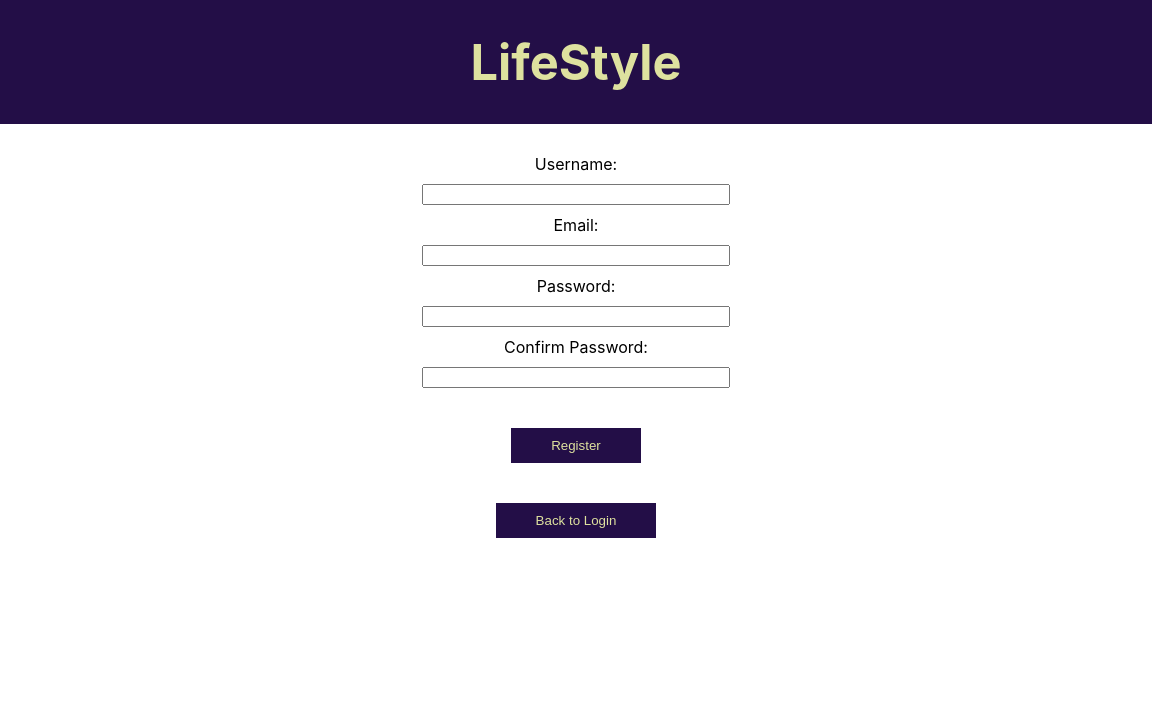
Test: user registration fails with invalid inputs
The image size is (1152, 720).
Type "testuser" into the field labelled "Username:" at (576, 195), box [422, 184, 730, 205]
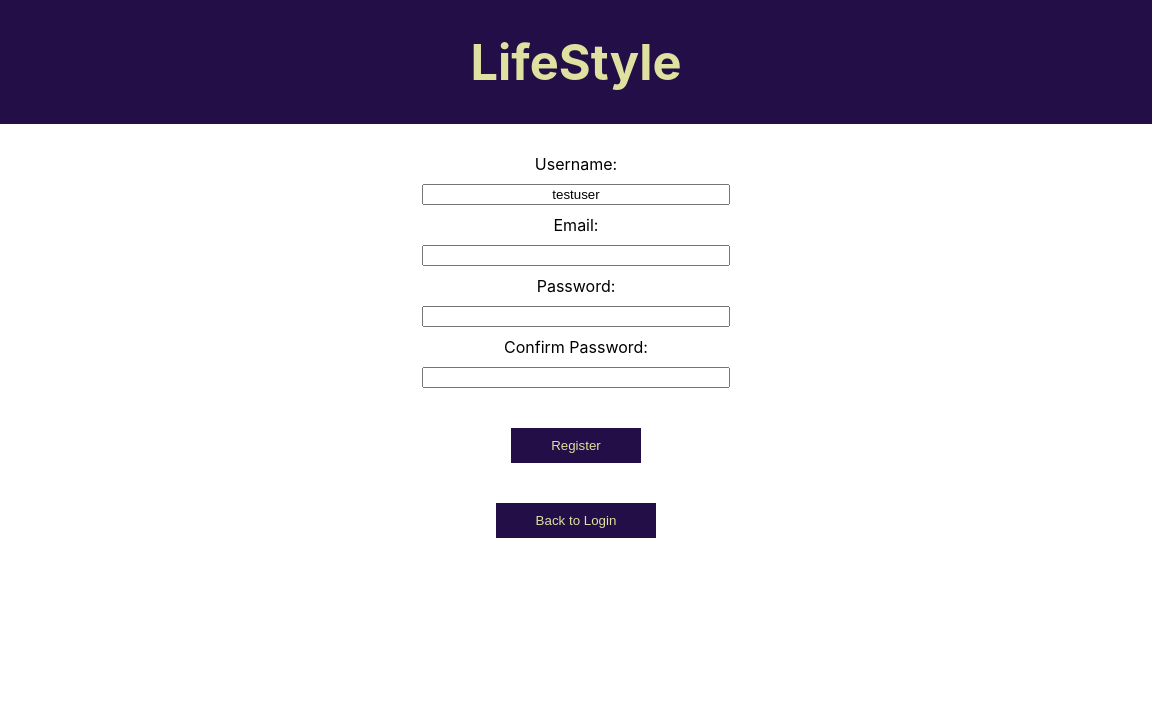
Type "invalid_email" into the field labelled "Email:" at (576, 256), box [422, 245, 730, 266]
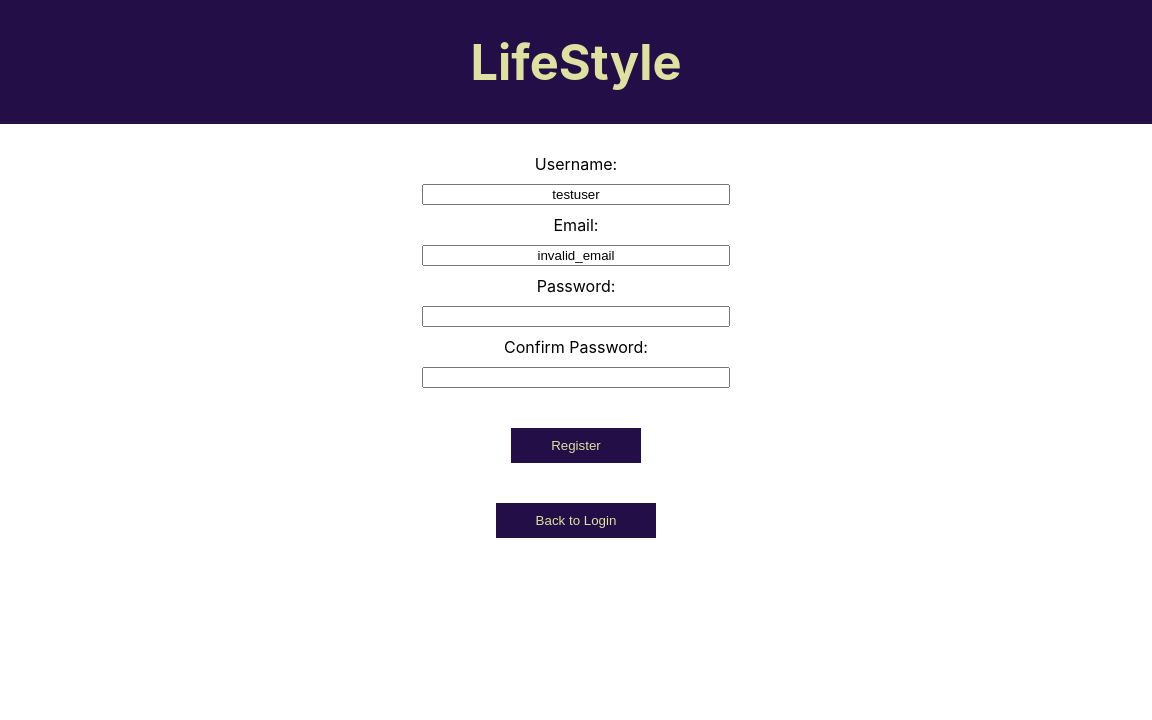
Type "testpassword" into the password field labelled "Password:" at (576, 317), box [422, 306, 730, 327]
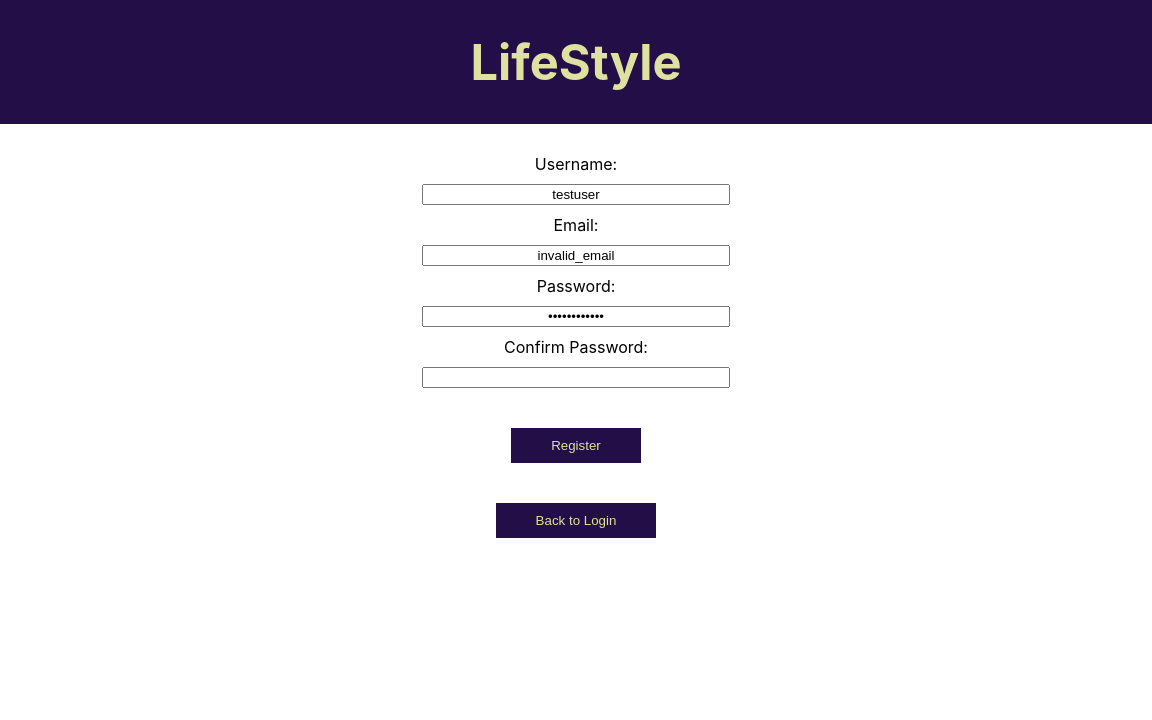
Type "testpassword" into the password field labelled "Confirm Password:" at (576, 378), box [422, 367, 730, 388]
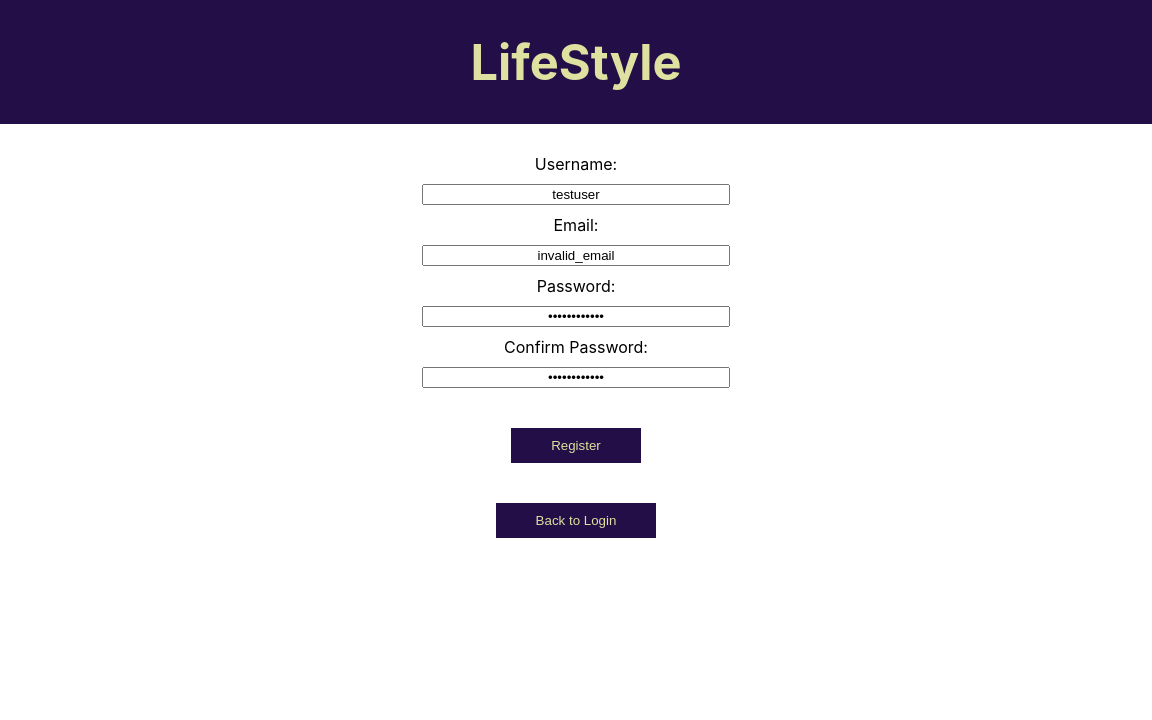
Click the button "Register" at (576, 446), box [511, 428, 641, 463]
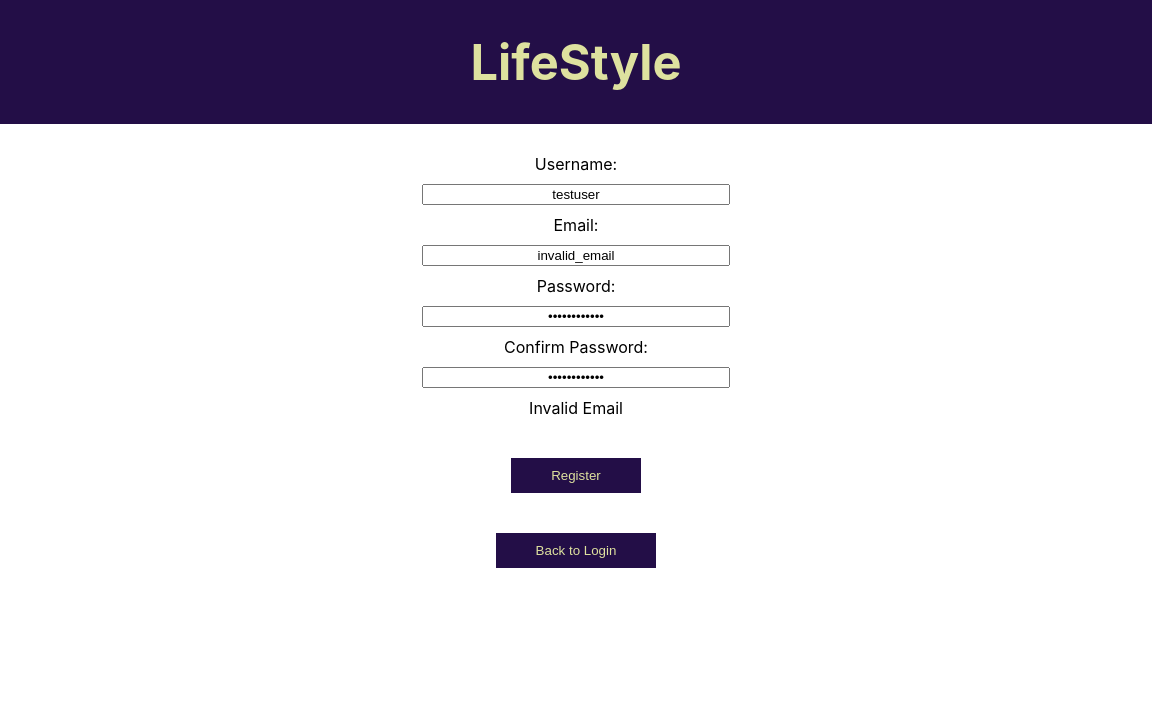
Check: the text "Invalid Email" is shown, box [529, 398, 623, 418]
